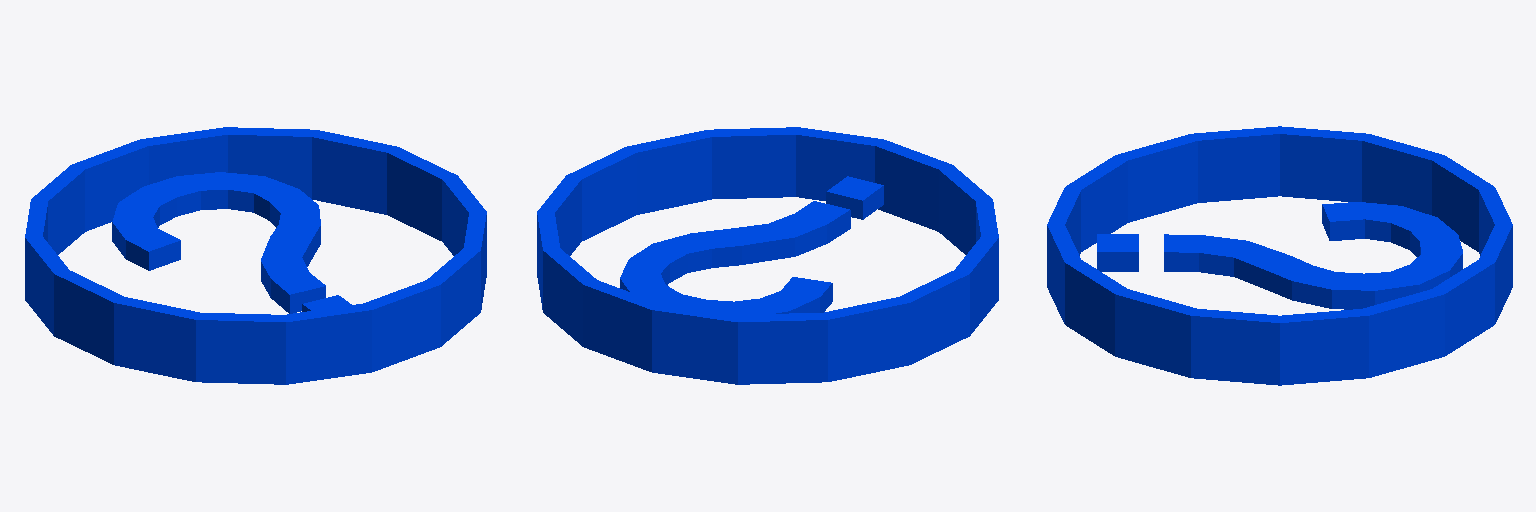
The model's file is IndiceBleu.obj.
3 renders of one model, left to right at view 1: azimuth 30°, elevation 25°; view 2: azimuth 150°, elevation 25°; view 3: azimuth 270°, elevation 25°, orthographic.
Visible parts, largest first — view 1: IndiceSocleBl, IndiceInteroBl; view 2: IndiceSocleBl, IndiceInteroBl; view 3: IndiceSocleBl, IndiceInteroBl.
Part boxes in pixels (bbox=[...]): IndiceSocleBl: bbox=[25, 127, 486, 384]; IndiceInteroBl: bbox=[112, 172, 351, 313]; IndiceSocleBl: bbox=[537, 127, 998, 384]; IndiceInteroBl: bbox=[620, 176, 883, 314]; IndiceSocleBl: bbox=[1047, 126, 1512, 385]; IndiceInteroBl: bbox=[1097, 202, 1462, 309].
Bounding box in the file's own units: 231 × 34.21 × 231.